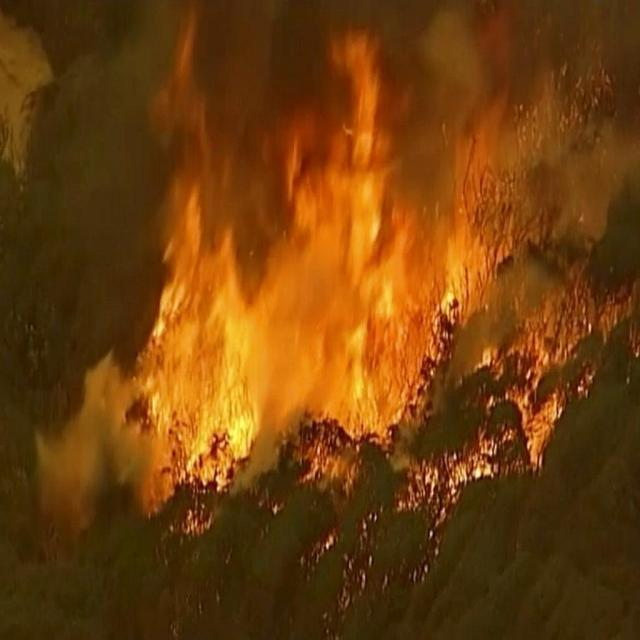fire: (21, 17, 528, 541)
